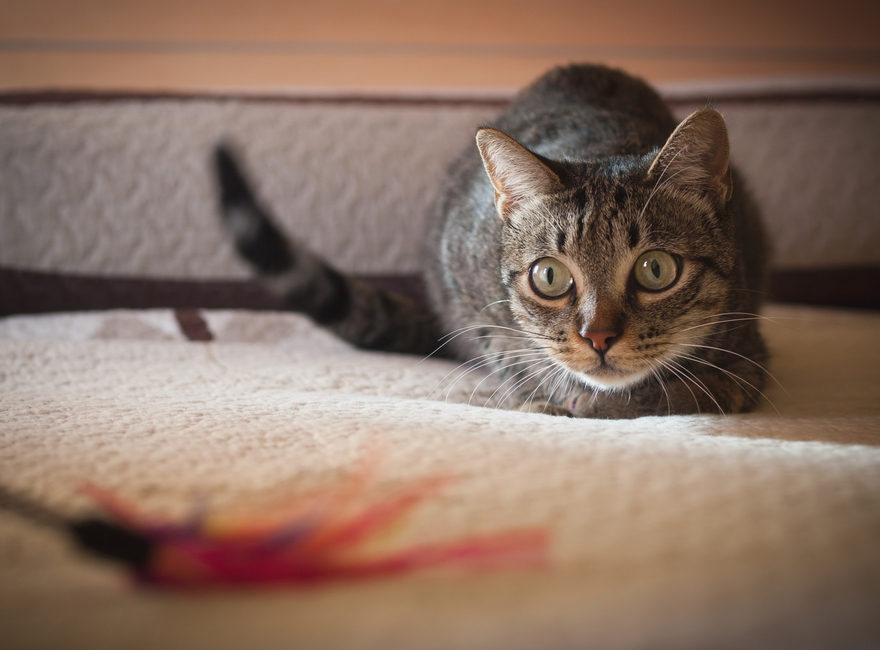cat: (187, 44, 778, 432)
cat-face: (452, 95, 792, 402)
